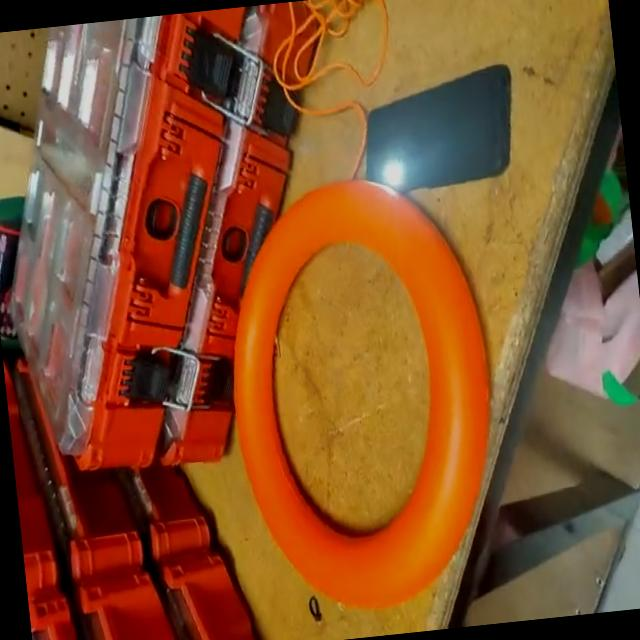note: (206, 160, 514, 622)
